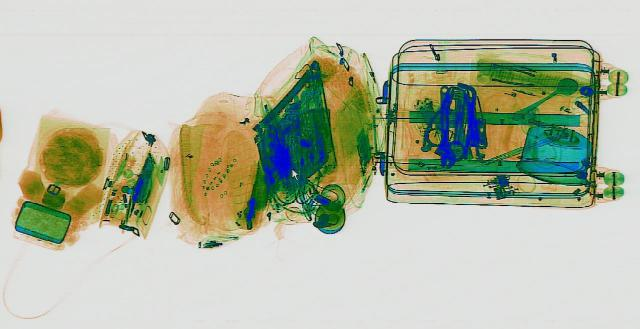Wrench: (431, 85, 457, 166)
